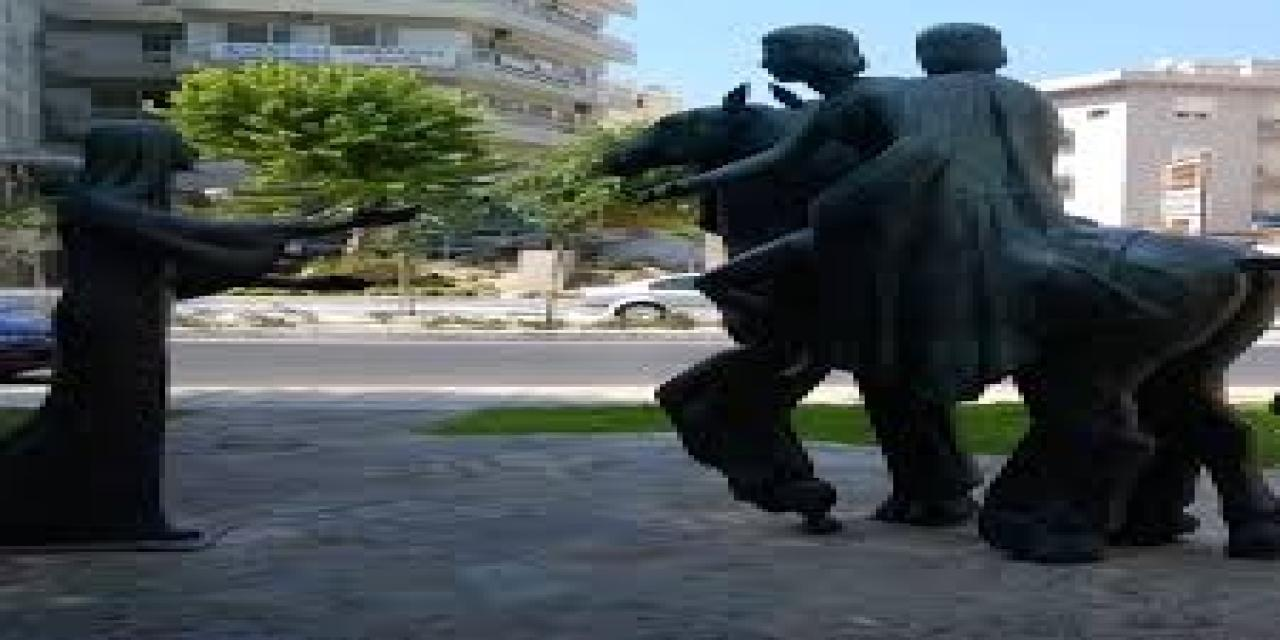Aretousa: (1, 23, 1280, 564)
